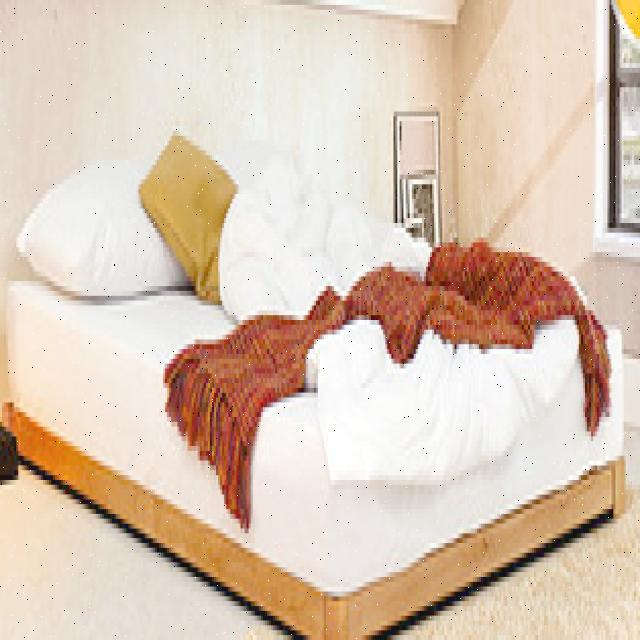bed: (6, 131, 626, 599)
